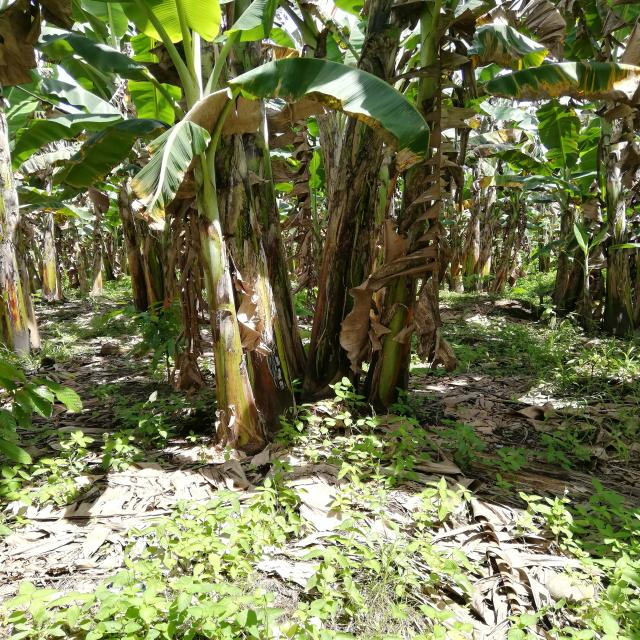Banana-plant: (167, 103, 269, 455), (312, 6, 401, 392), (372, 15, 442, 418), (592, 35, 640, 337), (0, 75, 45, 388)
